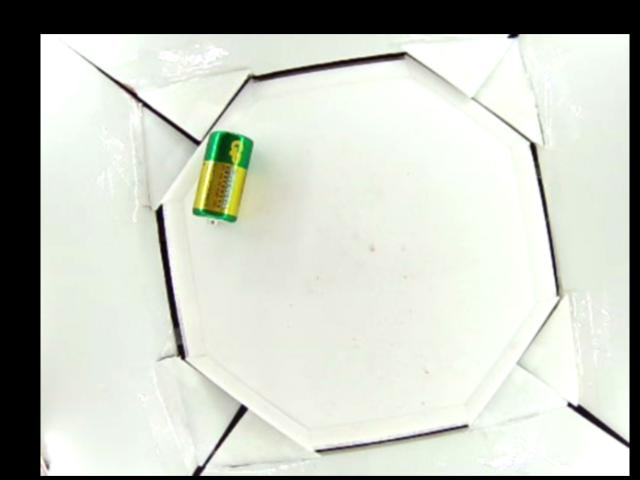Battery: (192, 130, 253, 227)
